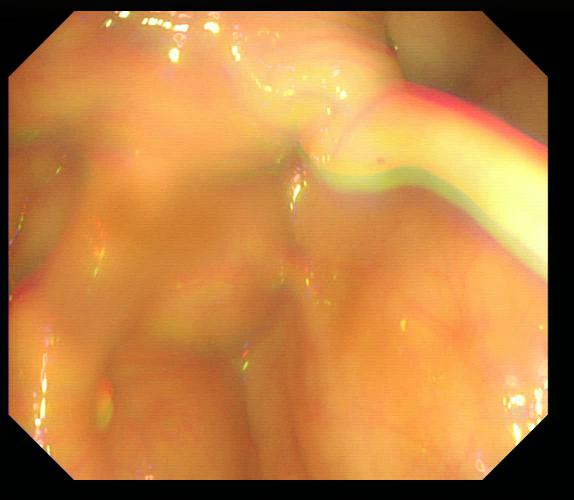polyp: (43, 217, 118, 294), (317, 130, 380, 183), (92, 381, 118, 428)
